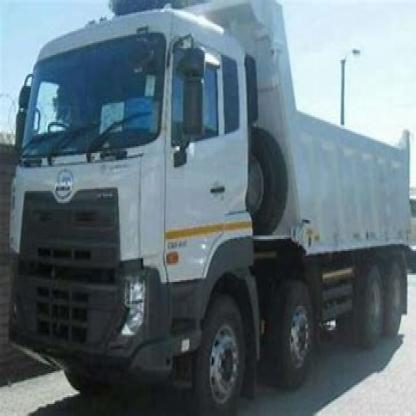dump_truck: (1, 5, 415, 414)
